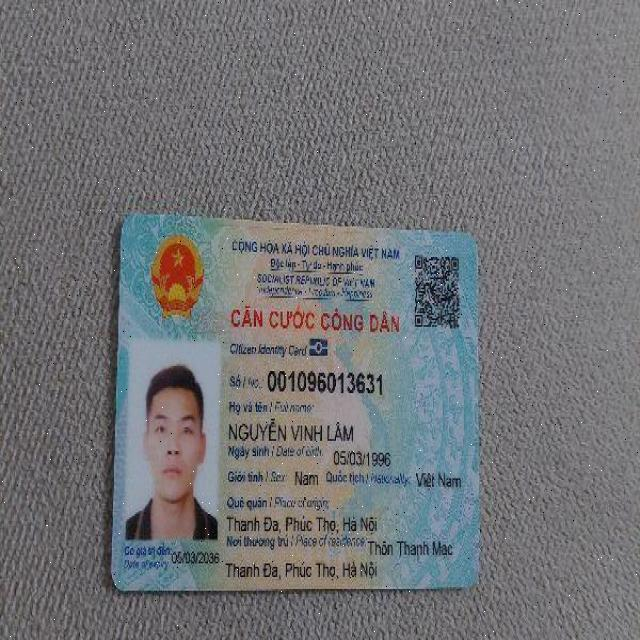current_place: (225, 557, 380, 584), (367, 537, 454, 563)
dob: (334, 446, 390, 468)
expire_date: (170, 549, 220, 569)
gender: (294, 465, 323, 489)
id: (266, 366, 385, 402)
name: (226, 414, 363, 449)
nationality: (411, 467, 463, 496)
origin_place: (226, 512, 381, 538)
